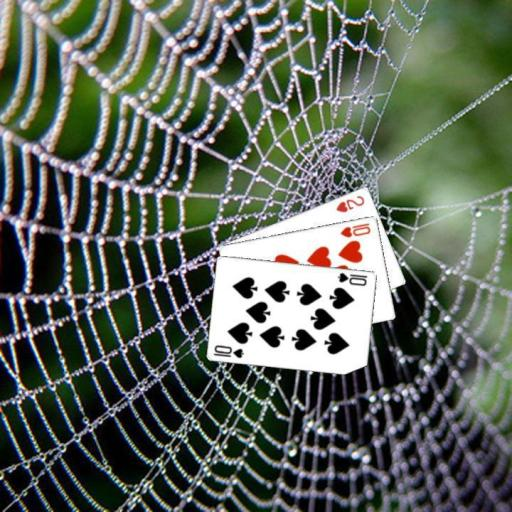card-corner: (333, 192, 366, 213), (337, 220, 372, 239), (212, 341, 246, 360), (335, 269, 369, 287)
